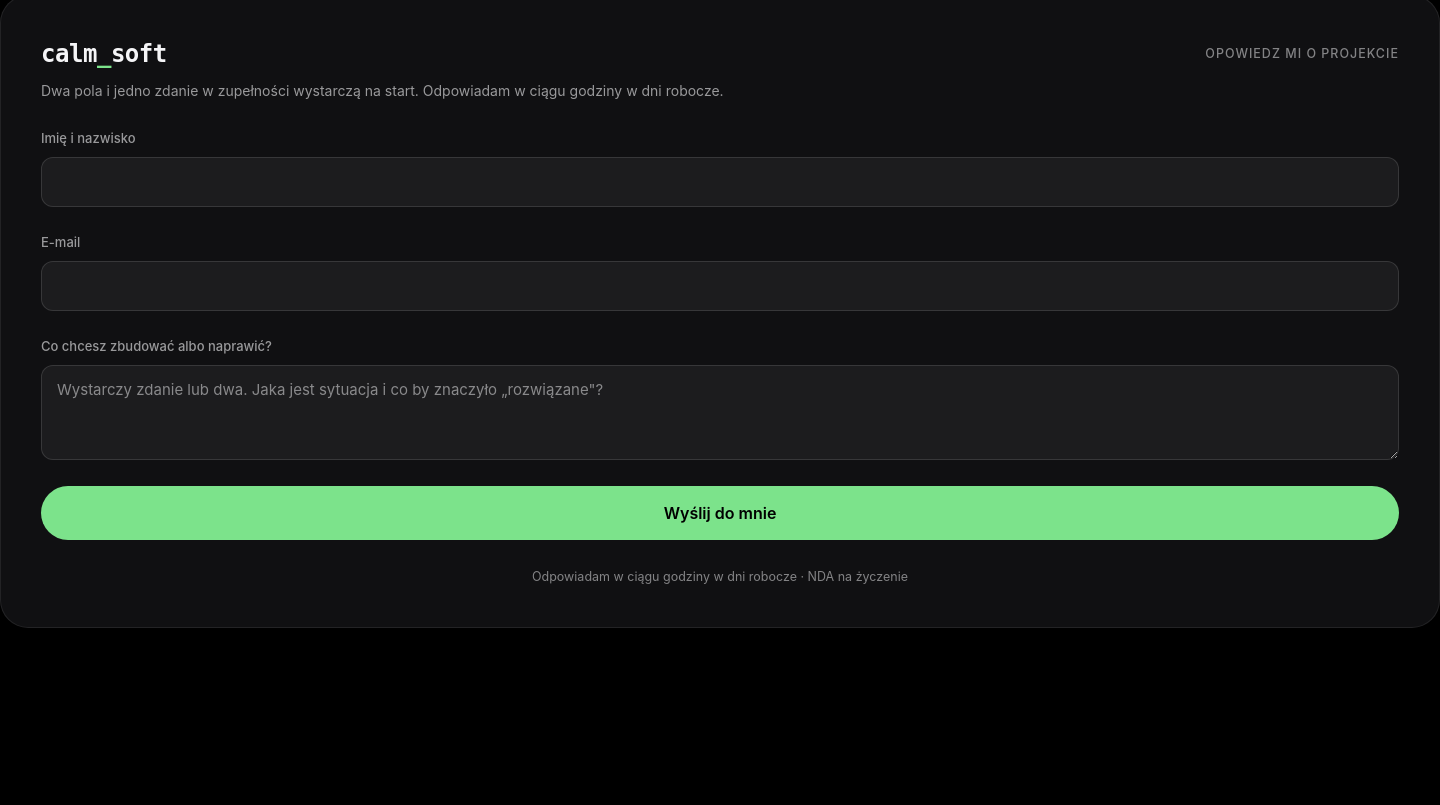
Test case: ContactForm step 2 — optional qualifying details (SPEC §14.2) › clicking 'again' resets to a fresh, empty step-1 form
In the field labelled "Imię i nazwisko": x=720, y=182 41,156 -> 1399,207, type "Anna Nowak"
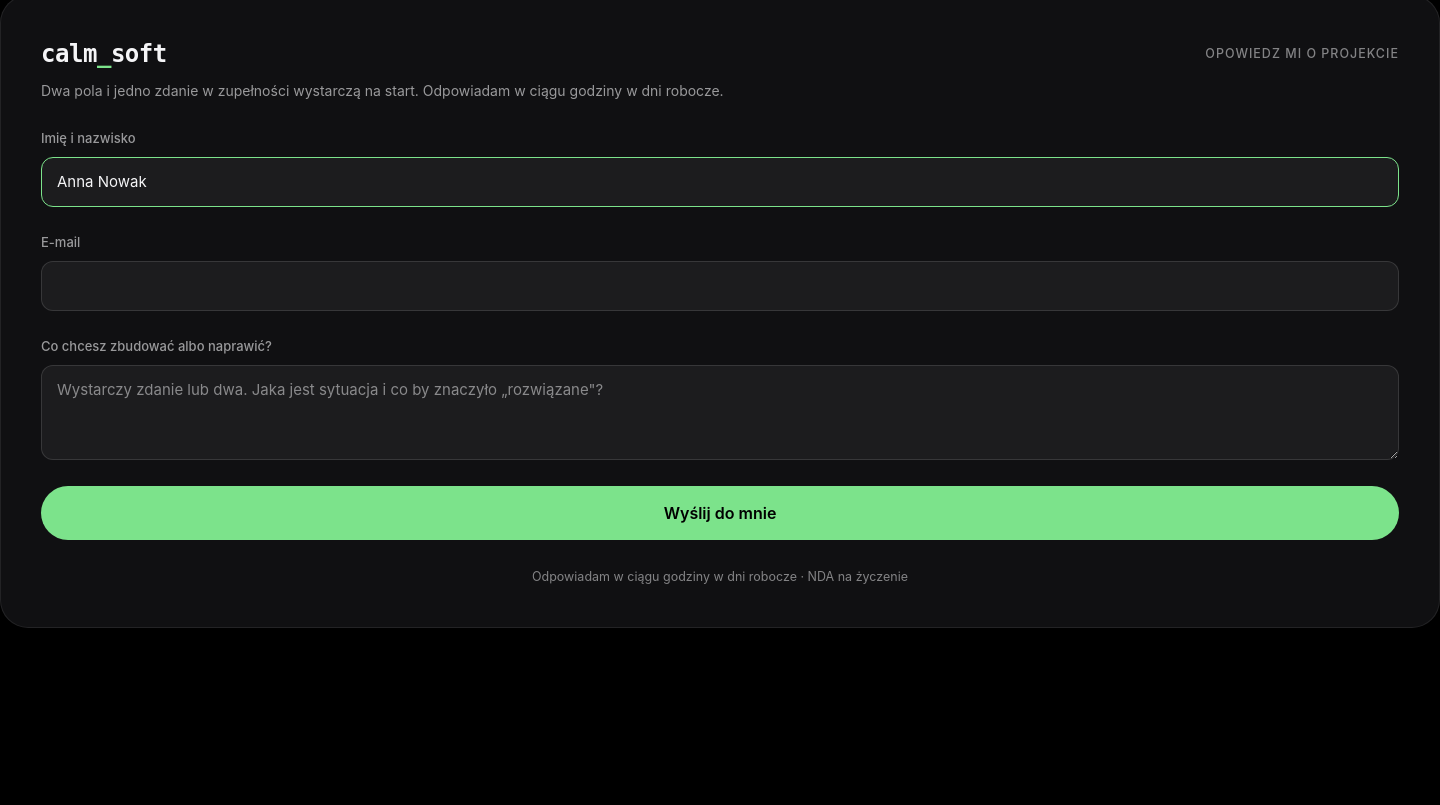
In the field labelled "E-mail": x=720, y=286 41,260 -> 1399,311, type "anna@example.com"
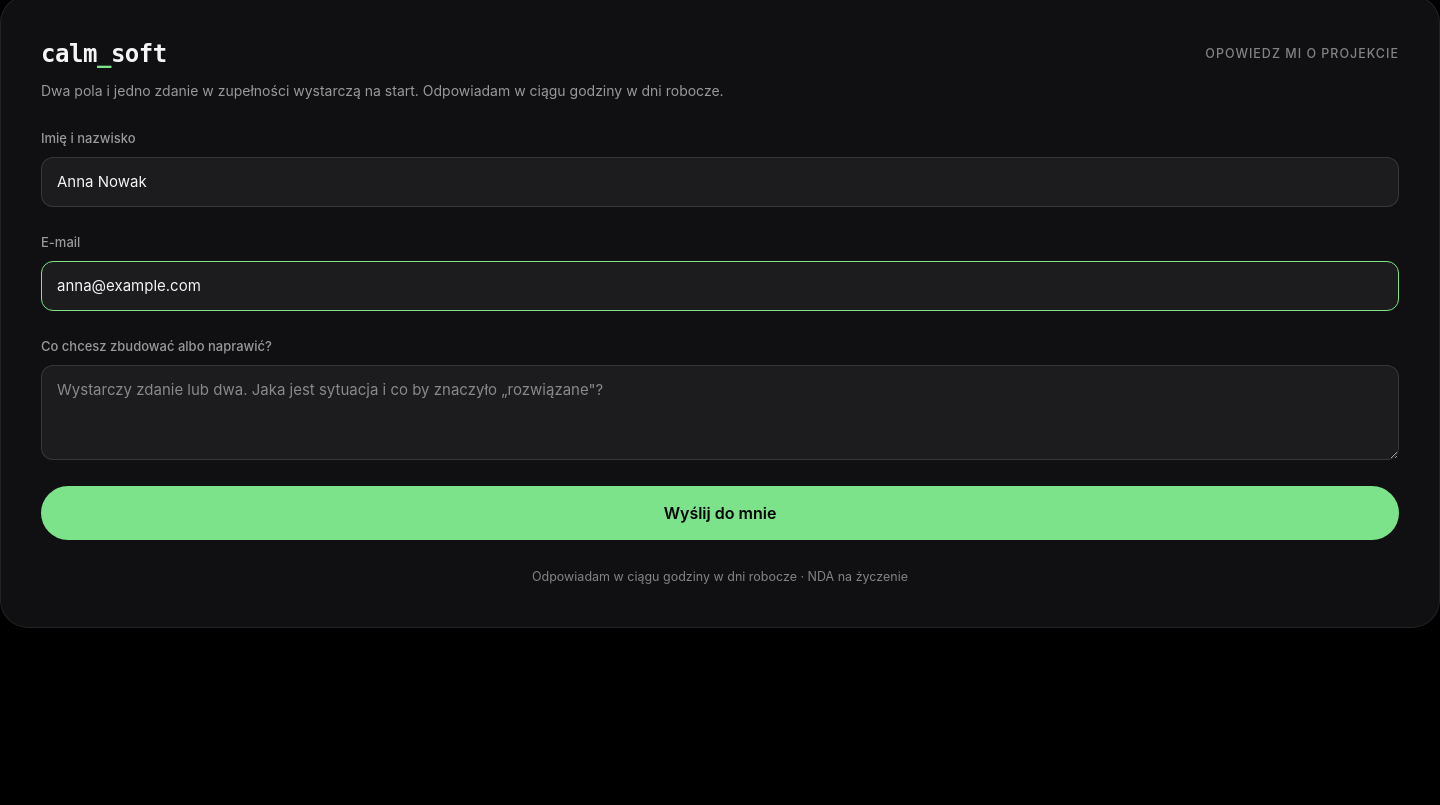
In the text box labelled "Co chcesz zbudować albo naprawić?": x=720, y=412 41,364 -> 1399,460, type "We need a new platform."
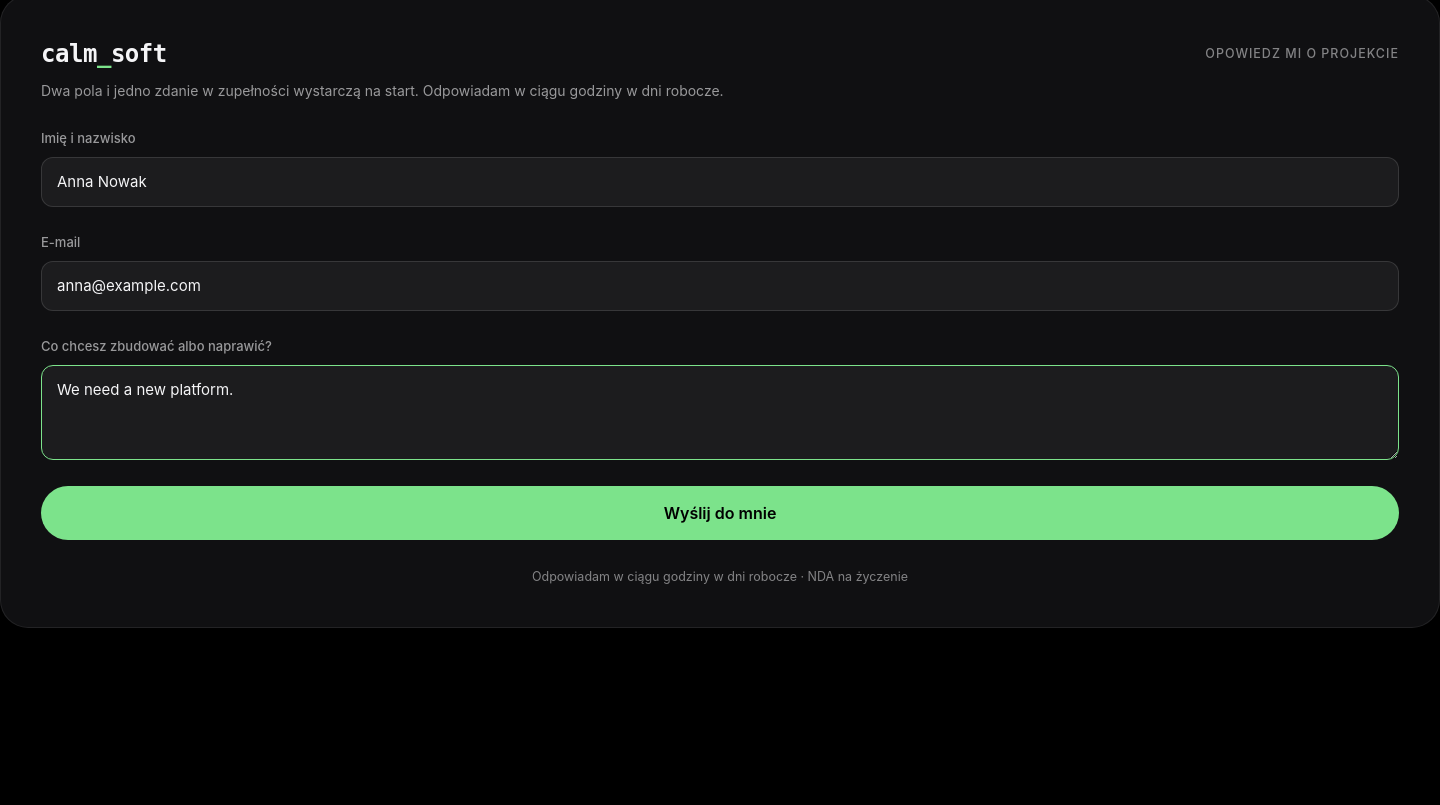
Click the button "Wyślij do mnie": x=720, y=513 41,486 -> 1399,540
(page scrolled)
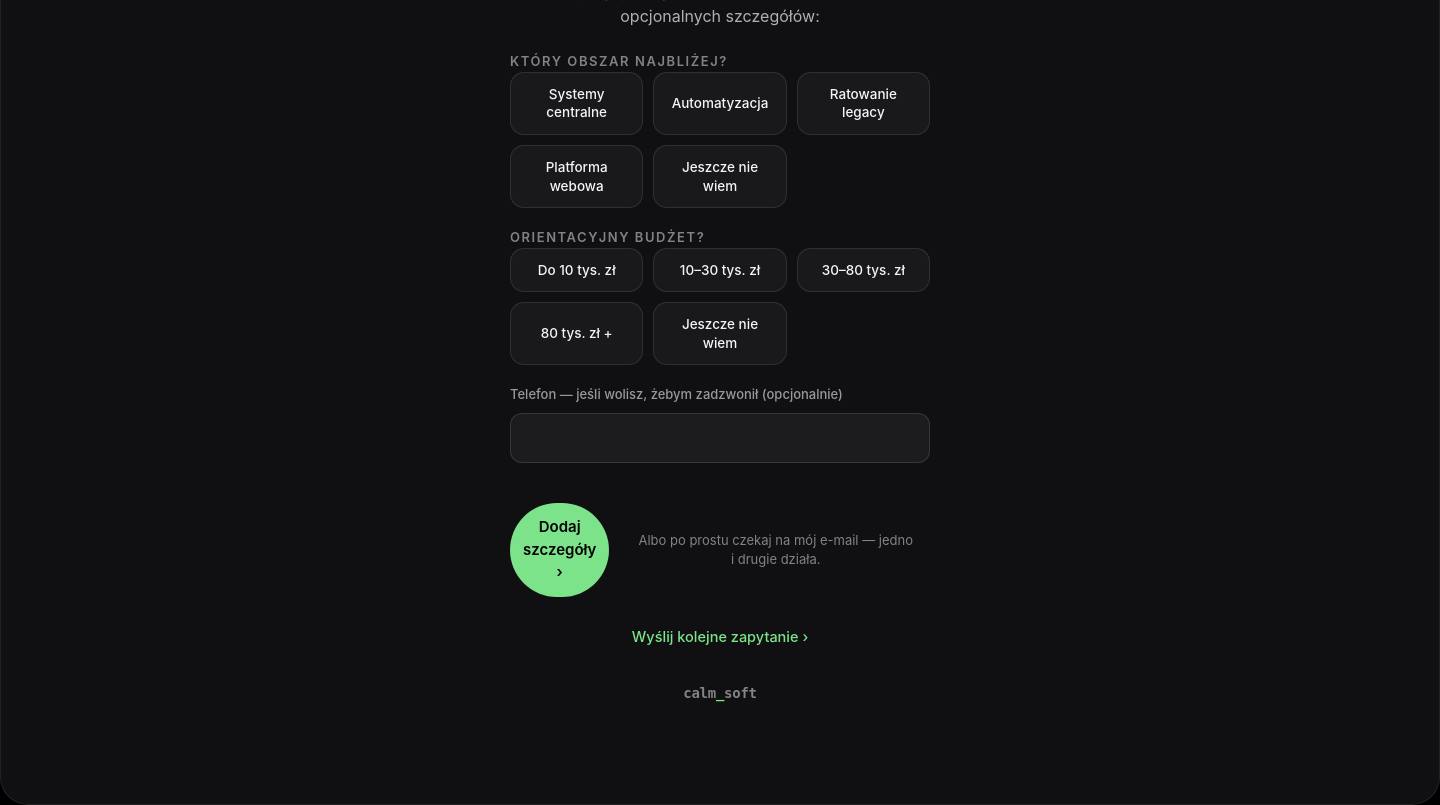
Click the button "Wyślij kolejne zapytanie ›": x=720, y=637 615,621 -> 825,653
(page scrolled)
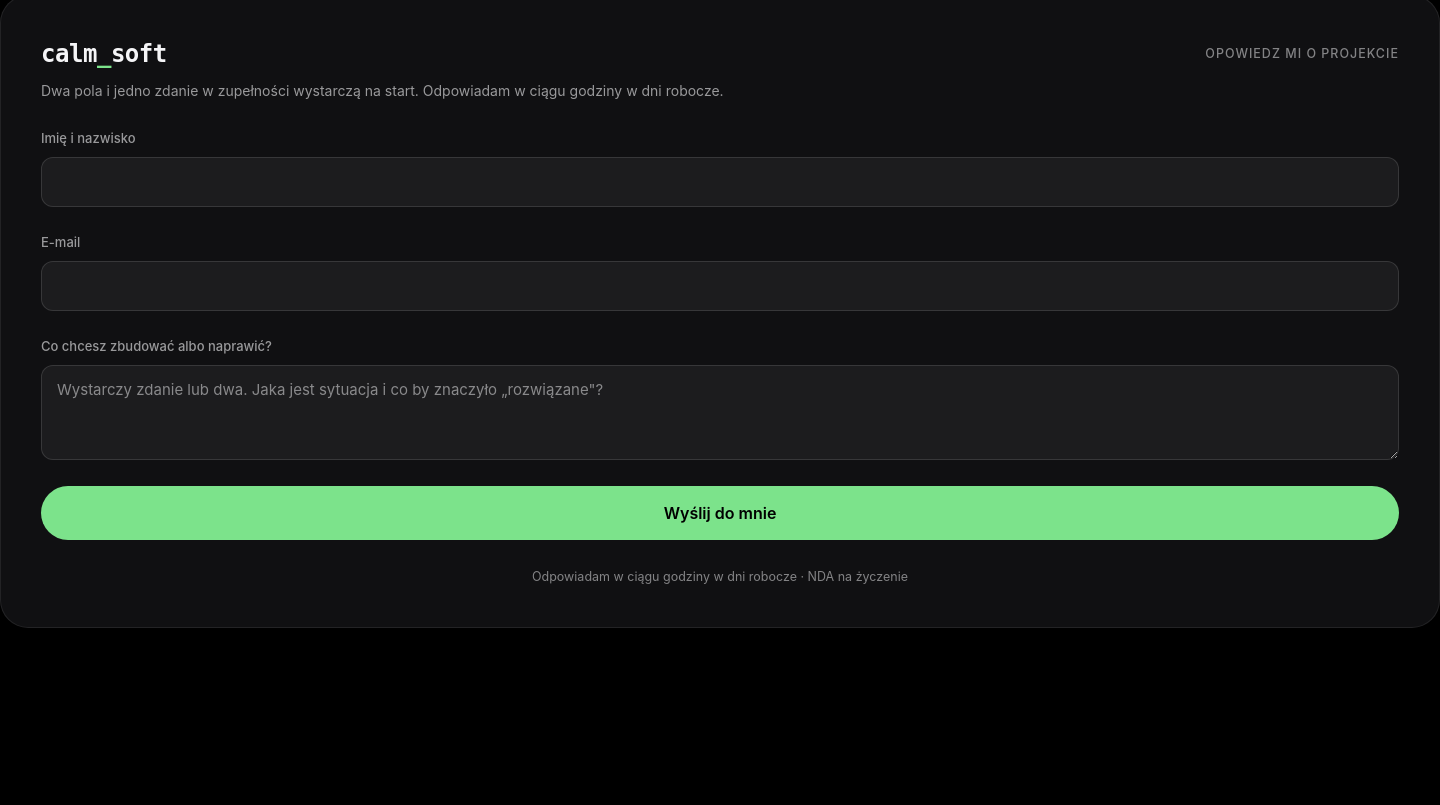
Result: the button "Wyślij do mnie" is shown at 41,486 -> 1399,540
Result: the field labelled "Imię i nazwisko" is empty at 41,156 -> 1399,207
Result: the field labelled "E-mail" is empty at 41,260 -> 1399,311
